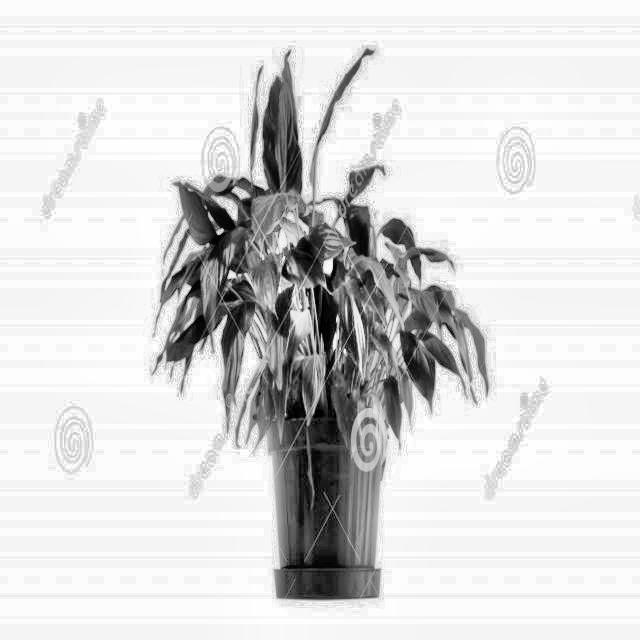plants: (157, 44, 494, 594), (230, 348, 266, 448)
